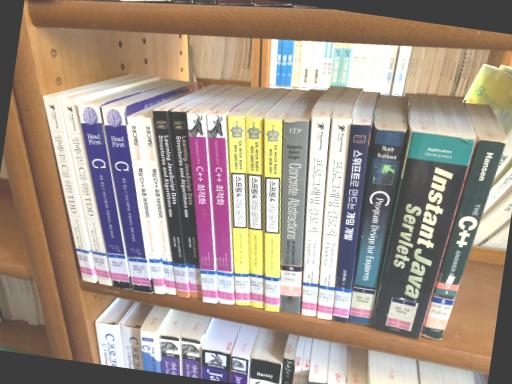book-spine: (370, 131, 477, 339), (421, 139, 507, 340), (350, 130, 405, 325), (78, 106, 131, 289), (60, 98, 111, 286), (43, 96, 94, 282), (101, 108, 151, 293), (332, 124, 370, 322), (317, 119, 352, 319), (127, 118, 165, 294), (153, 111, 188, 298), (170, 111, 202, 298), (141, 119, 175, 294), (302, 117, 330, 316), (280, 120, 308, 313), (188, 114, 216, 303), (208, 114, 233, 305), (228, 116, 249, 305), (265, 119, 281, 312), (246, 117, 262, 308)
